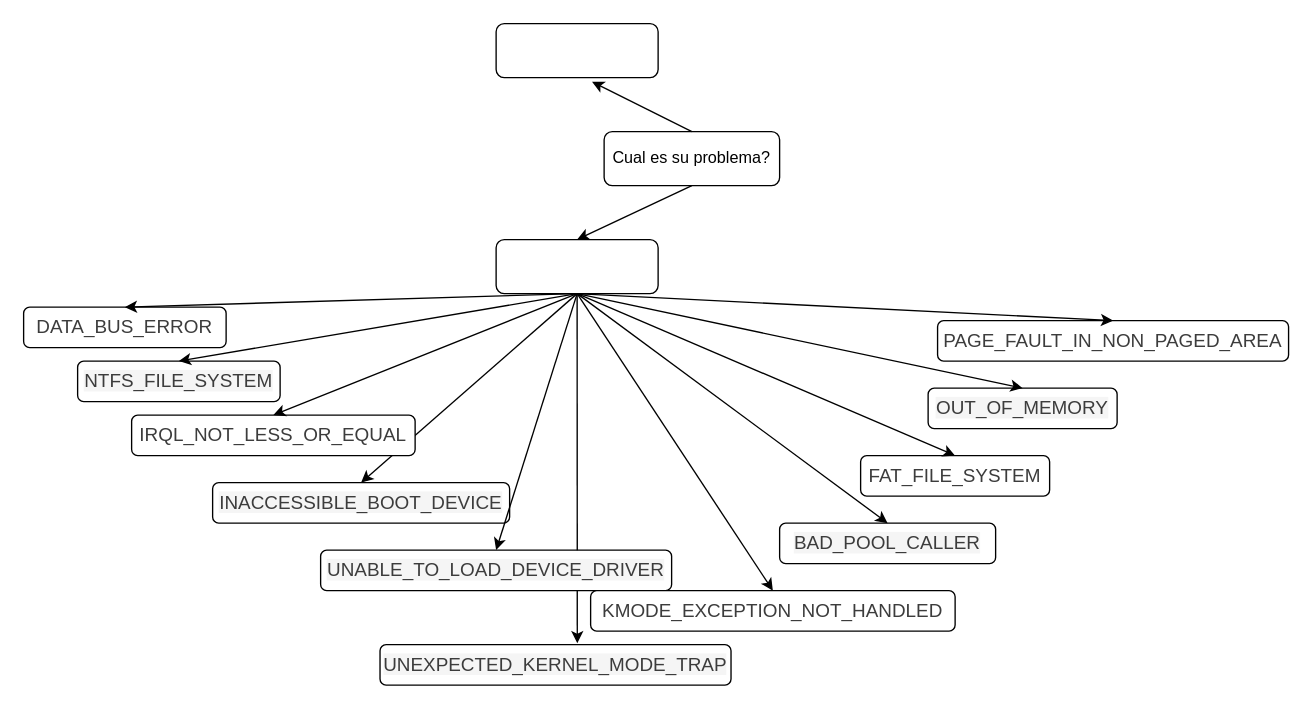
Some shapes in this 1312 by 709 pixel diagram are drawn without their labels. The centre of each missing label's shape, as x and y in pixels:
"Pantallazo azul" belongs at (576,266).
"Se apaga sola" belongs at (576,50).
